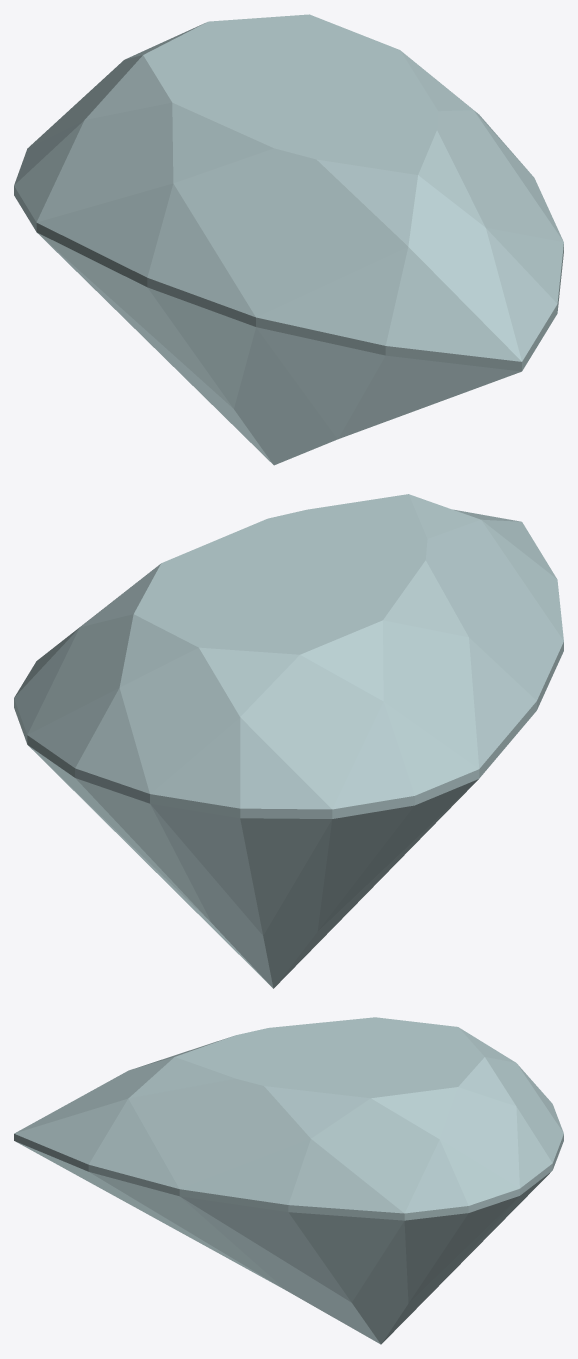
The model's file is pear.fbx.
The picture shows the model from 3 angles, top to bottom: view 1: azimuth 30°, elevation 25°; view 2: azimuth 150°, elevation 25°; view 3: azimuth 270°, elevation 25°; orthographic projection. The views are drawn at different scales.
Parts seen in each view (by area): view 1: stone_Pear_cut; view 2: stone_Pear_cut; view 3: stone_Pear_cut.
Boxes of the visible parts, bbox=[...] form: stone_Pear_cut: bbox=[14, 14, 563, 465]; stone_Pear_cut: bbox=[14, 494, 563, 988]; stone_Pear_cut: bbox=[14, 1017, 563, 1344].
Bounding box in the file's own units: 1.02 × 0.8582 × 1.48.
